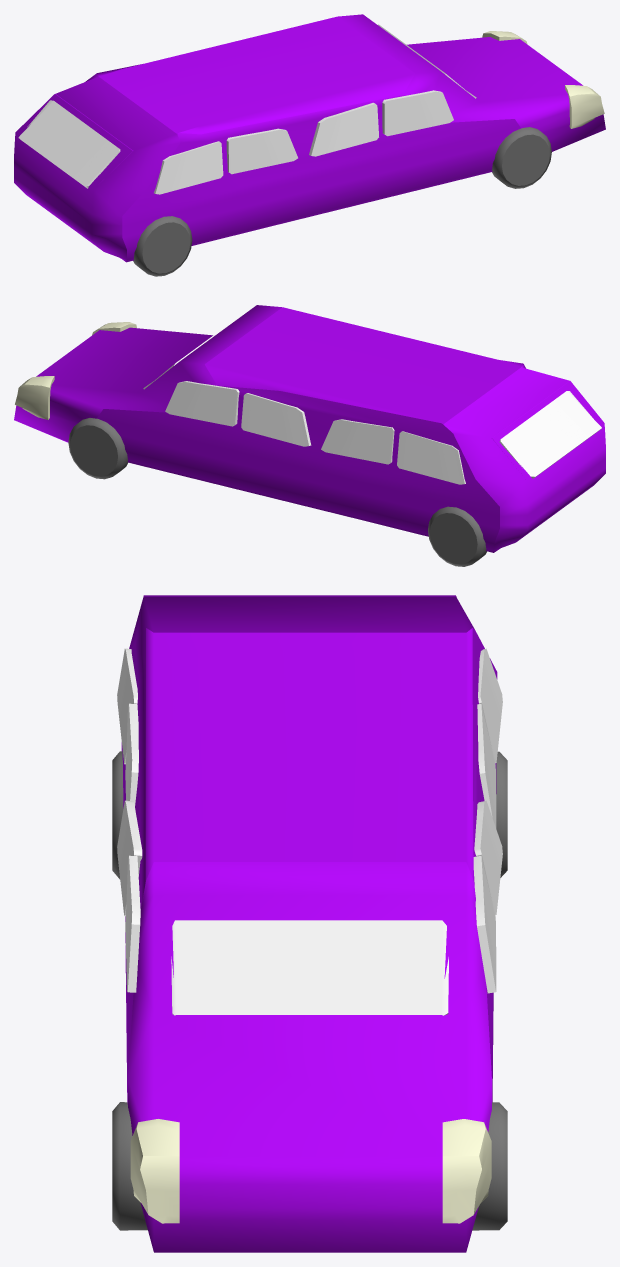
The model's file is CarroMorado.fbx.
3 renders of one model, top to bottom at view 1: azimuth 30°, elevation 25°; view 2: azimuth 150°, elevation 25°; view 3: azimuth 270°, elevation 25°, orthographic. The views are drawn at different scales.
Visible parts, largest first — view 1: pCube1, pCube10, pCylinder1, pCylinder2, pCube13, pCube8, pasted__pCube8, pasted__pCube13, pCube9; view 2: pCube1, pCube10, pCylinder3, pCylinder4, pasted__pCube12, pCube14, pasted__pasted__pCube12, pasted__pCube14, pCube9; view 3: pCube1, pCube6, pCube9, pCylinder1, pCylinder3, pasted__pCube12, pCube14, pCube8, pasted__pCube14, pCube13, pasted__pasted__pCube12, pasted__pCube13 (+3 smaller).
Part boxes in pixels (x1,y1,x2,y2): pCube1: (14, 14, 605, 262); pCube10: (18, 100, 120, 188); pCylinder1: (492, 127, 551, 188); pCylinder2: (133, 216, 192, 276); pCube13: (309, 102, 378, 156); pCube8: (382, 90, 453, 136); pasted__pCube8: (226, 128, 297, 174); pasted__pCube13: (154, 141, 223, 194); pCube9: (482, 31, 604, 128); pCube1: (14, 305, 605, 552); pCube10: (499, 391, 601, 478); pCylinder3: (68, 418, 127, 479); pCylinder4: (428, 506, 486, 566); pasted__pCube12: (165, 381, 239, 426); pCube14: (241, 393, 311, 446); pasted__pasted__pCube12: (321, 419, 394, 464); pasted__pCube14: (397, 431, 465, 484); pCube9: (15, 322, 136, 419); pCube1: (121, 595, 497, 1252); pCube6: (171, 920, 448, 1015); pCube9: (130, 1119, 491, 1223); pCylinder1: (112, 1102, 147, 1230); pCylinder3: (472, 1102, 507, 1230); pasted__pCube12: (473, 856, 496, 993); pCube14: (474, 800, 502, 915); pCube8: (125, 855, 140, 992); pasted__pCube14: (478, 648, 502, 763); pCube13: (117, 800, 142, 916); pasted__pasted__pCube12: (477, 704, 496, 828); pasted__pCube13: (117, 648, 137, 764).
Bounding box in the file's own units: 33.37 × 8.24 × 11.09.
